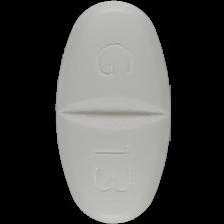61919-350: (0, 0, 224, 224)
